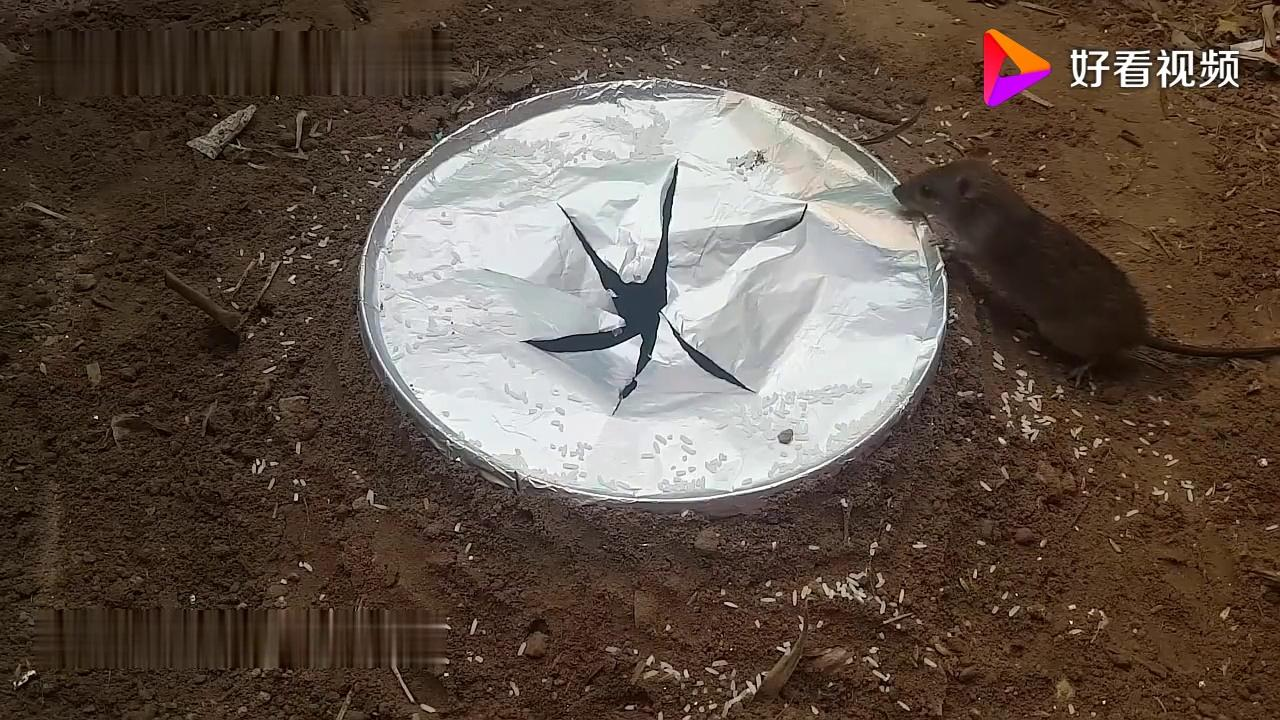rat: (882, 141, 1182, 397)
